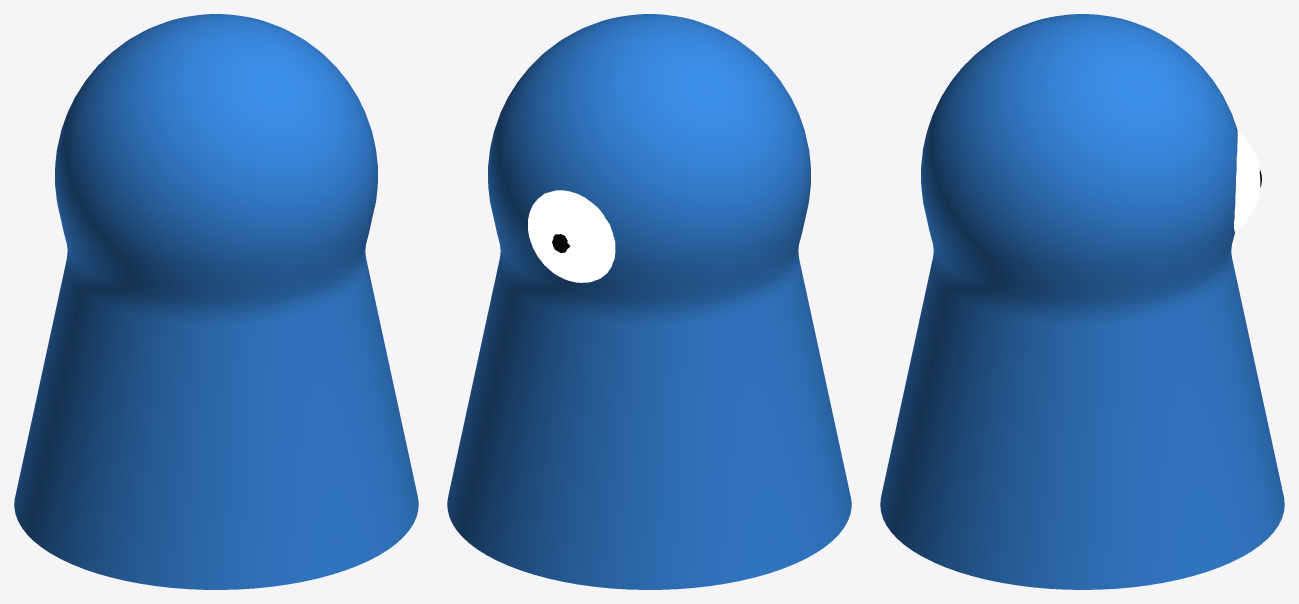
The model's file is ghost.glb.
The picture shows the model from 3 angles, left to right: view 1: azimuth 30°, elevation 25°; view 2: azimuth 150°, elevation 25°; view 3: azimuth 270°, elevation 25°; orthographic projection.
Visible parts, largest first — view 1: Ghost; view 2: Ghost, Eye; view 3: Ghost, Eye.
Boxes of the visible parts, left/top/right/bottom form: Ghost: left=14, top=14, right=418, bottom=589; Ghost: left=447, top=14, right=851, bottom=589; Eye: left=528, top=190, right=615, bottom=282; Ghost: left=880, top=14, right=1284, bottom=589; Eye: left=1234, top=131, right=1260, bottom=231.
Size of the model in its own units: 2.97 by 3.85 by 2.97.
